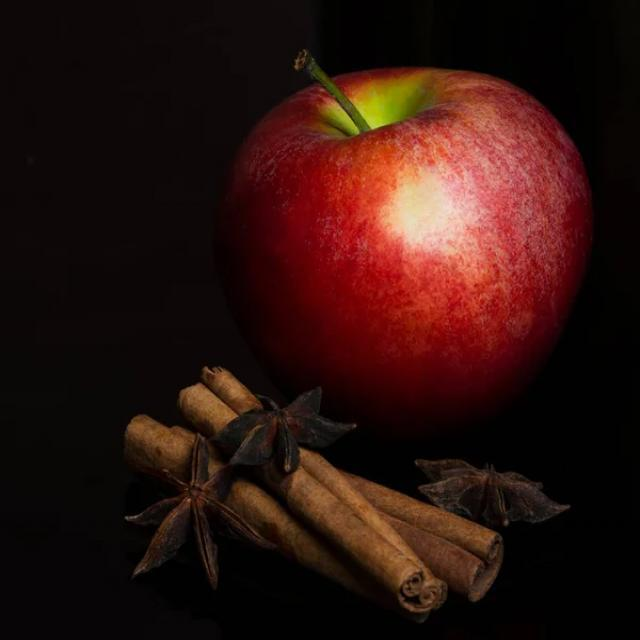Fresh Apple: (232, 67, 590, 448)
